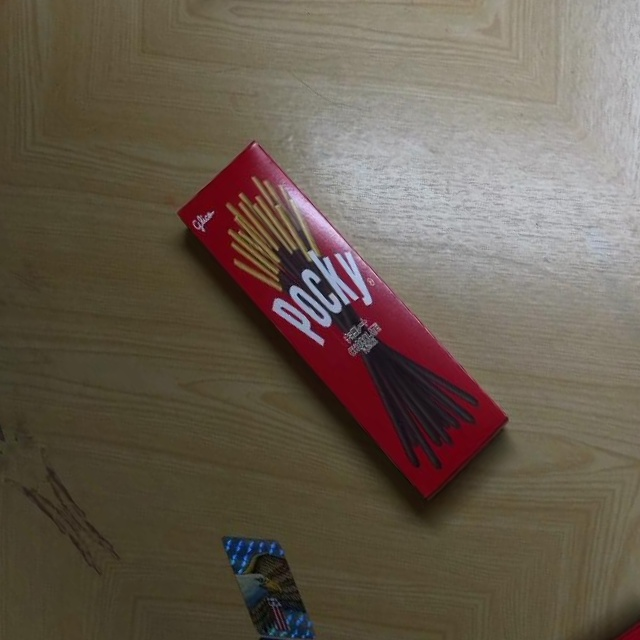Pocky: (172, 129, 517, 507)
